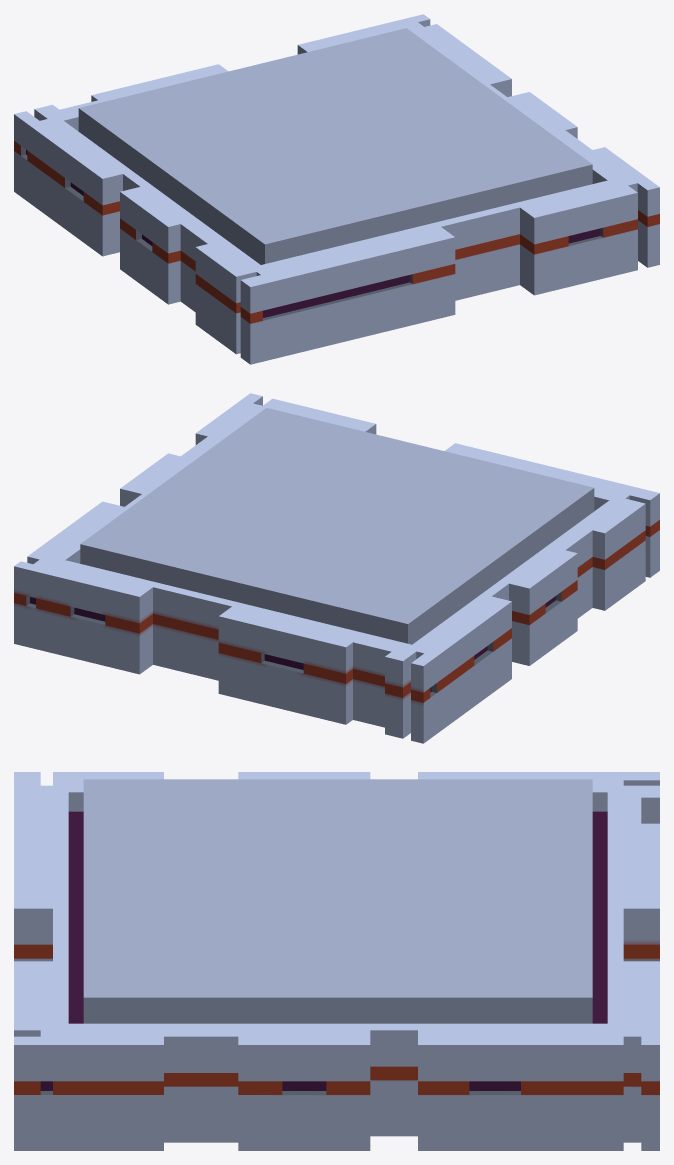
File: Dynamic_Platform.fbx
3 renders of one model, top to bottom at view 1: azimuth 30°, elevation 25°; view 2: azimuth 150°, elevation 25°; view 3: azimuth 270°, elevation 25°, orthographic. The views are drawn at different scales.
Visible parts, largest first — view 1: Cube.028; view 2: Cube.028; view 3: Cube.028.
Part boxes in pixels (box(x1,y1,x2,y2)): Cube.028: box(14, 14, 659, 364); Cube.028: box(14, 393, 659, 743); Cube.028: box(14, 772, 659, 1150).
Bounding box in the file's own units: 200 × 42.86 × 200.
